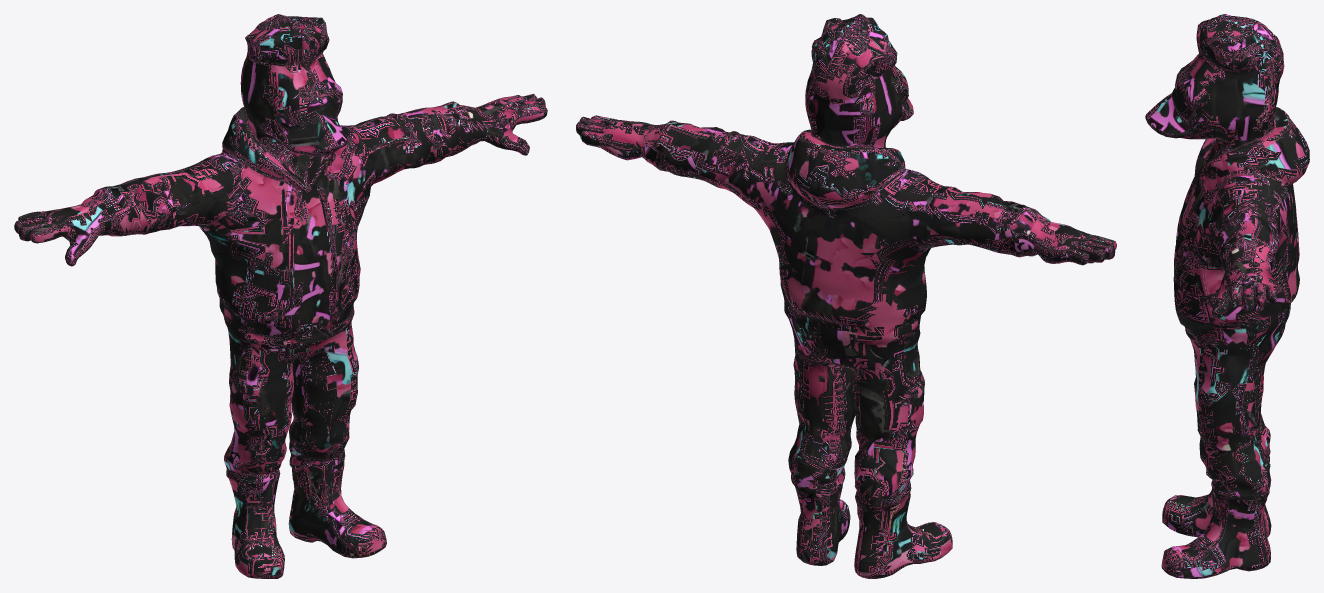
File: PatoModelRef2.fbx
3 views of the same model, side by side, from view 1: azimuth 30°, elevation 25°; view 2: azimuth 150°, elevation 25°; view 3: azimuth 270°, elevation 25° (orthographic).
Visible parts, largest first — view 1: tripo_node_7ec74e27; view 2: tripo_node_7ec74e27; view 3: tripo_node_7ec74e27.
Boxes of the visible parts, left/top/right/bottom form: tripo_node_7ec74e27: left=14, top=14, right=547, bottom=578; tripo_node_7ec74e27: left=576, top=14, right=1116, bottom=578; tripo_node_7ec74e27: left=1145, top=14, right=1309, bottom=578.
Bounding box in the file's own units: 103 × 99.88 × 27.76.
